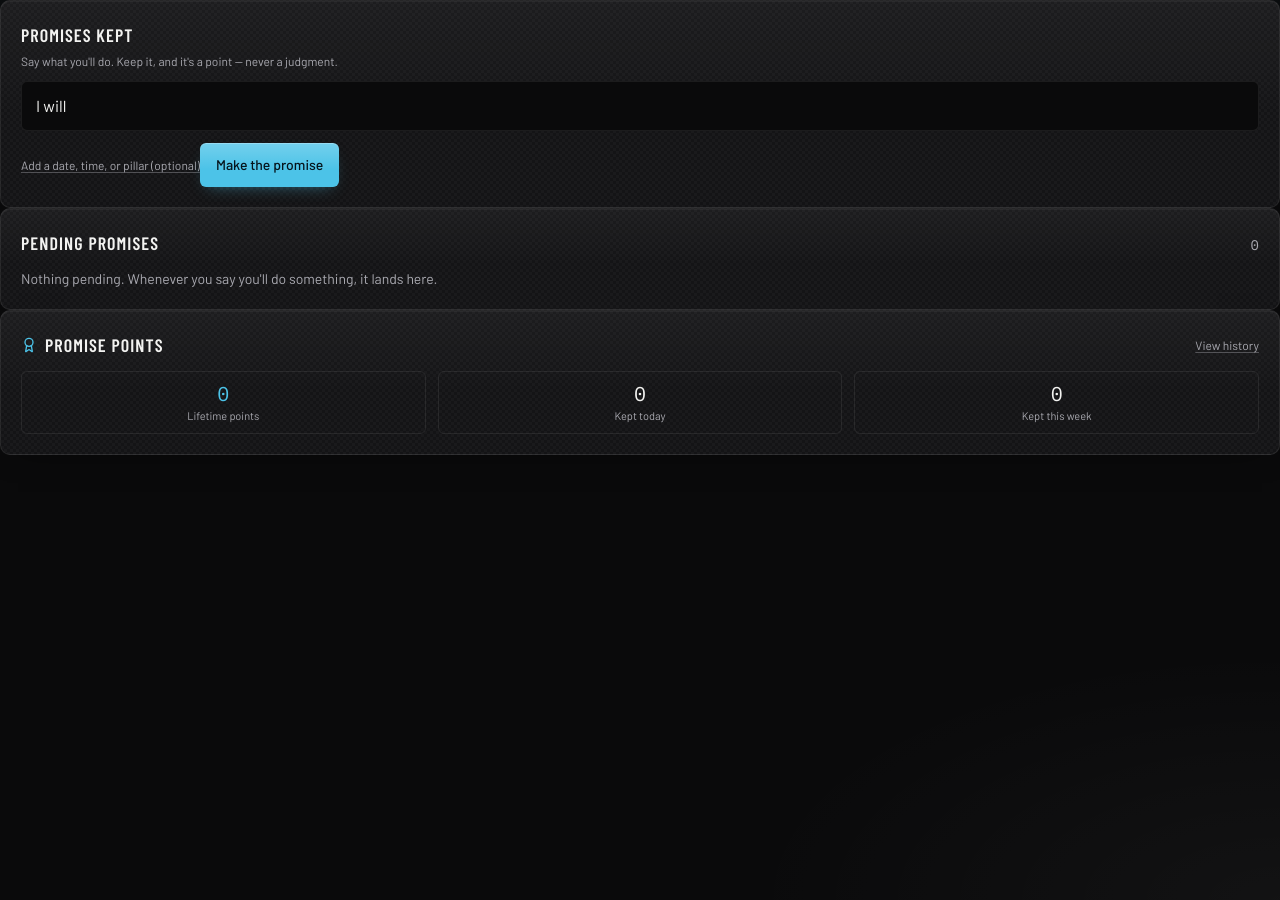
Test: Promises Kept integration › creating, keeping, and undoing a promise drives the point total correctly
Replace the text in the field with placeholder "What will you do?" with "I will read for 20 minutes" at point(640, 106), box [21, 81, 1259, 131]
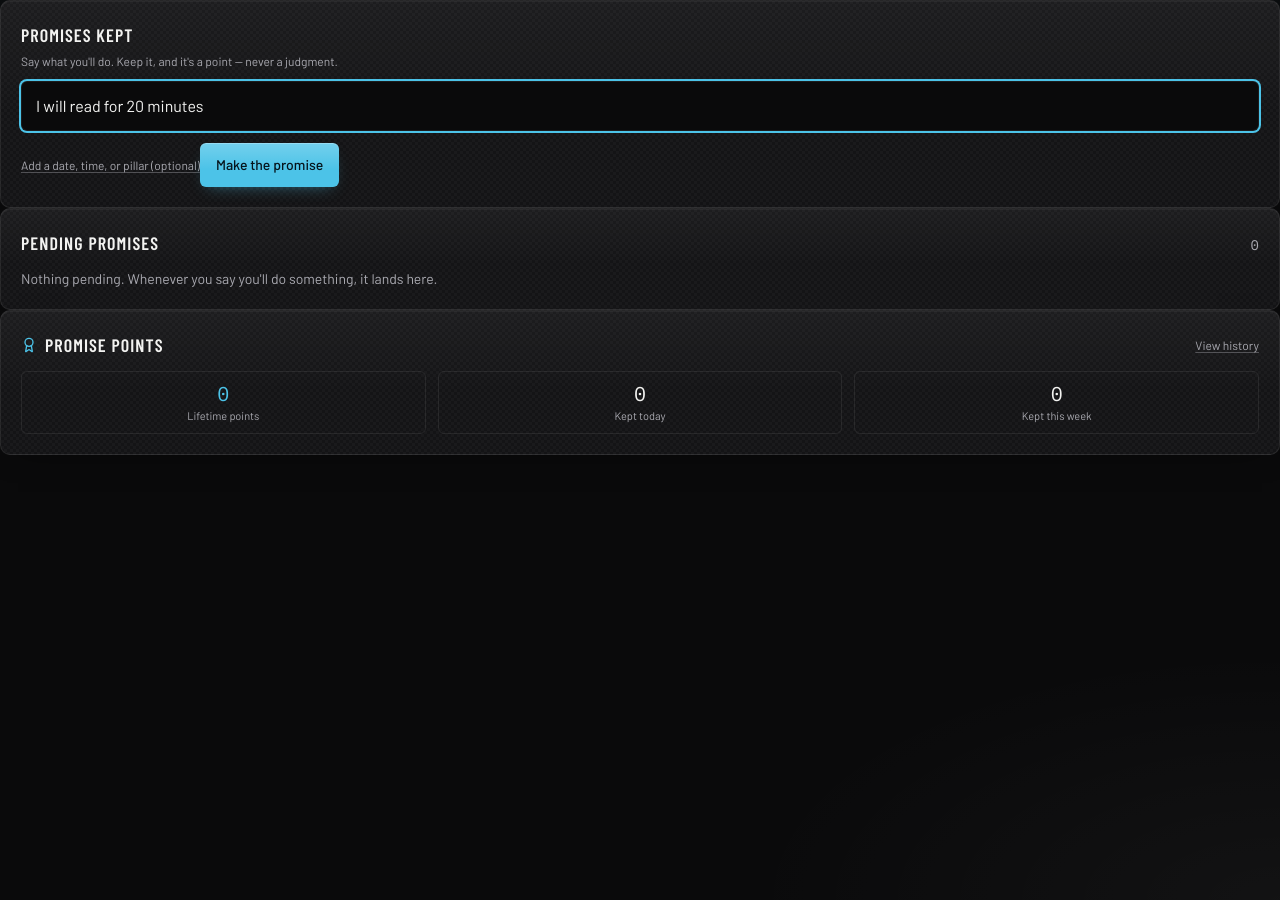
Click the button "Make the promise" at point(270, 165), box [200, 143, 339, 187]
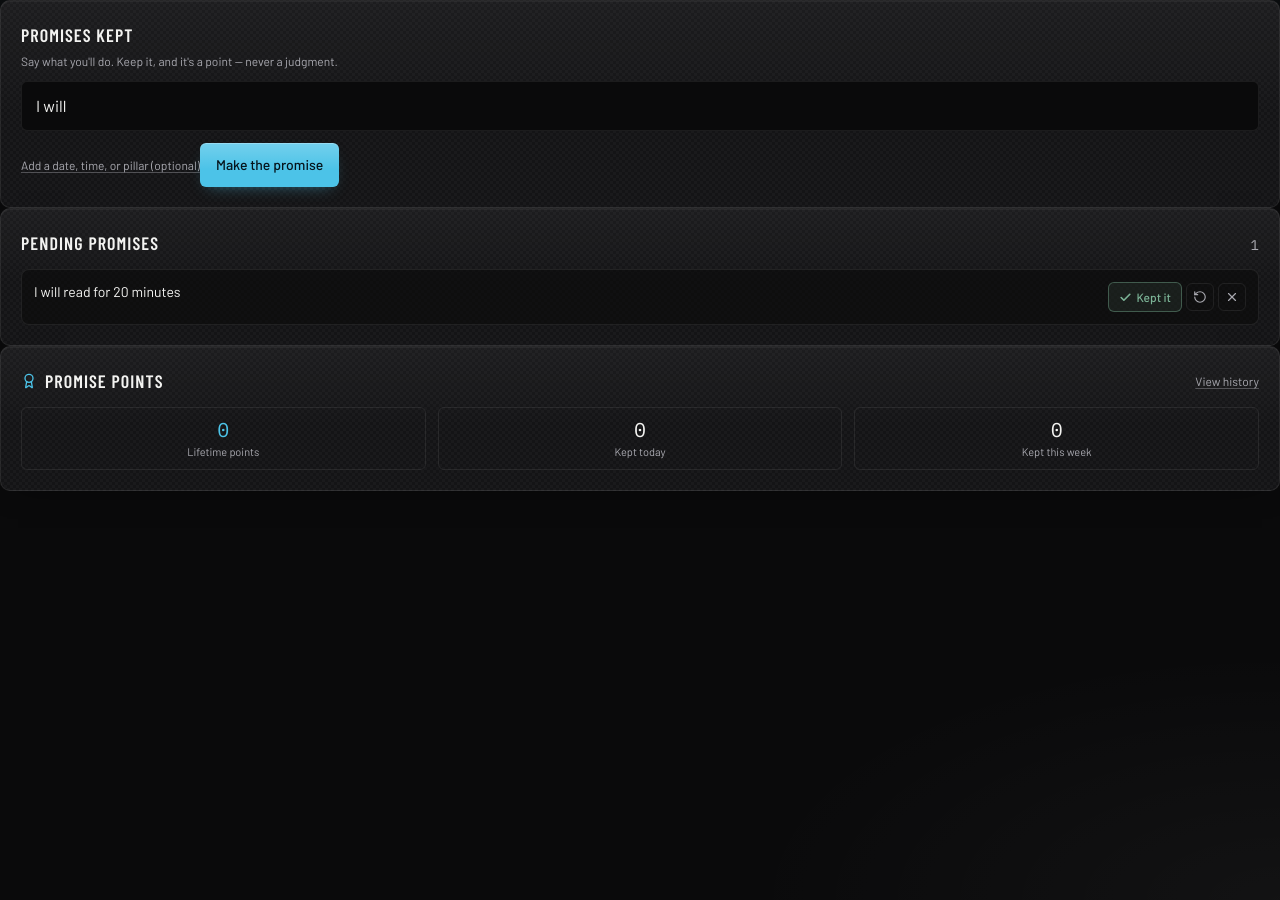
Expected: the 1st text "0" is shown, [217, 416, 229, 443]
Expected: the text "I will read for 20 minutes" is shown, [34, 283, 181, 300]
Click the button "Kept it" at point(1145, 297), box [1108, 282, 1182, 312]
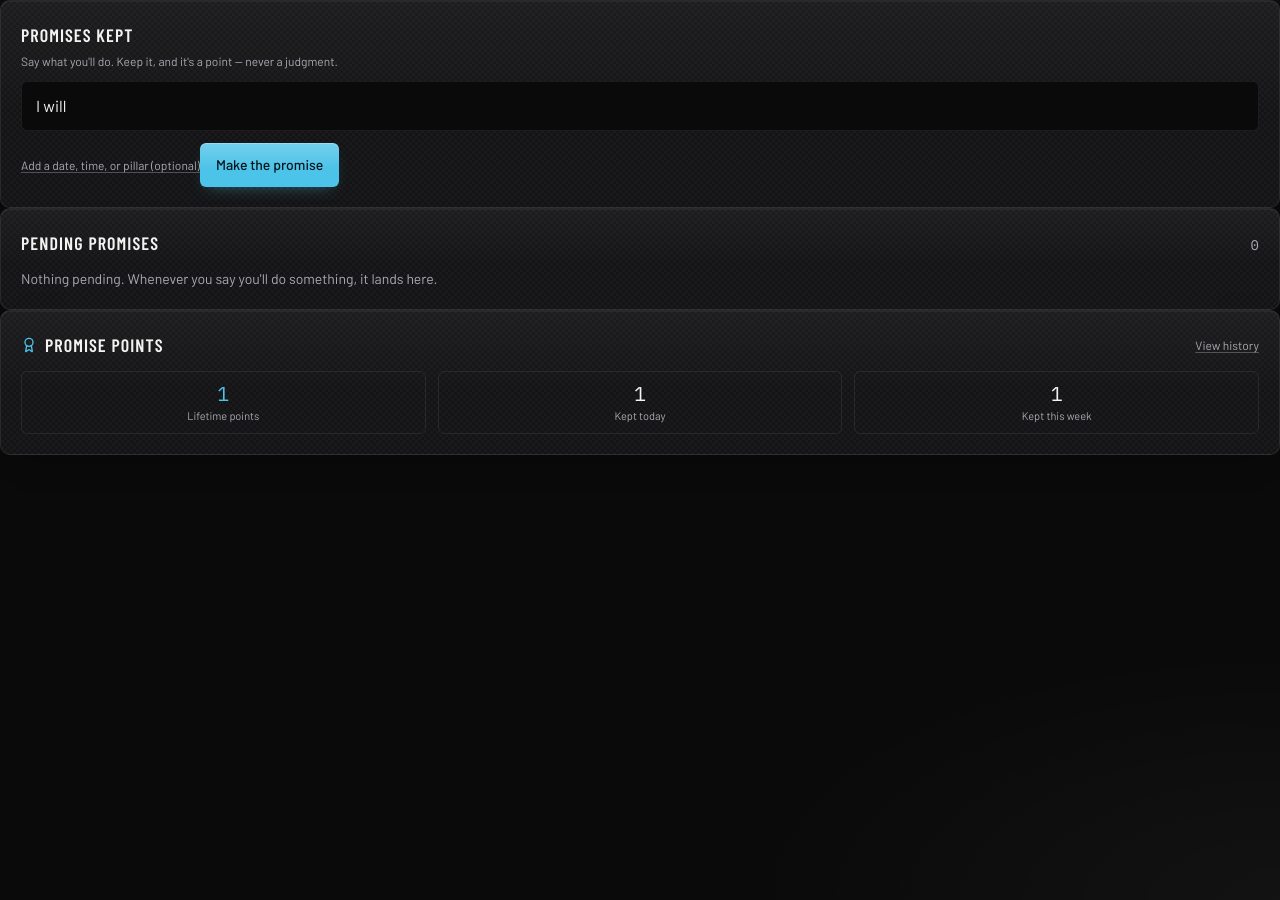
Expected: the 1st text "1" is shown, [217, 380, 229, 407]
Expected: the button "Kept it" is gone
Expected: the text "Nothing pending. Whenever you say you'll do something, it lands here." is shown, [21, 270, 437, 287]
Click the button "View history" at point(1227, 345), box [1195, 337, 1259, 353]
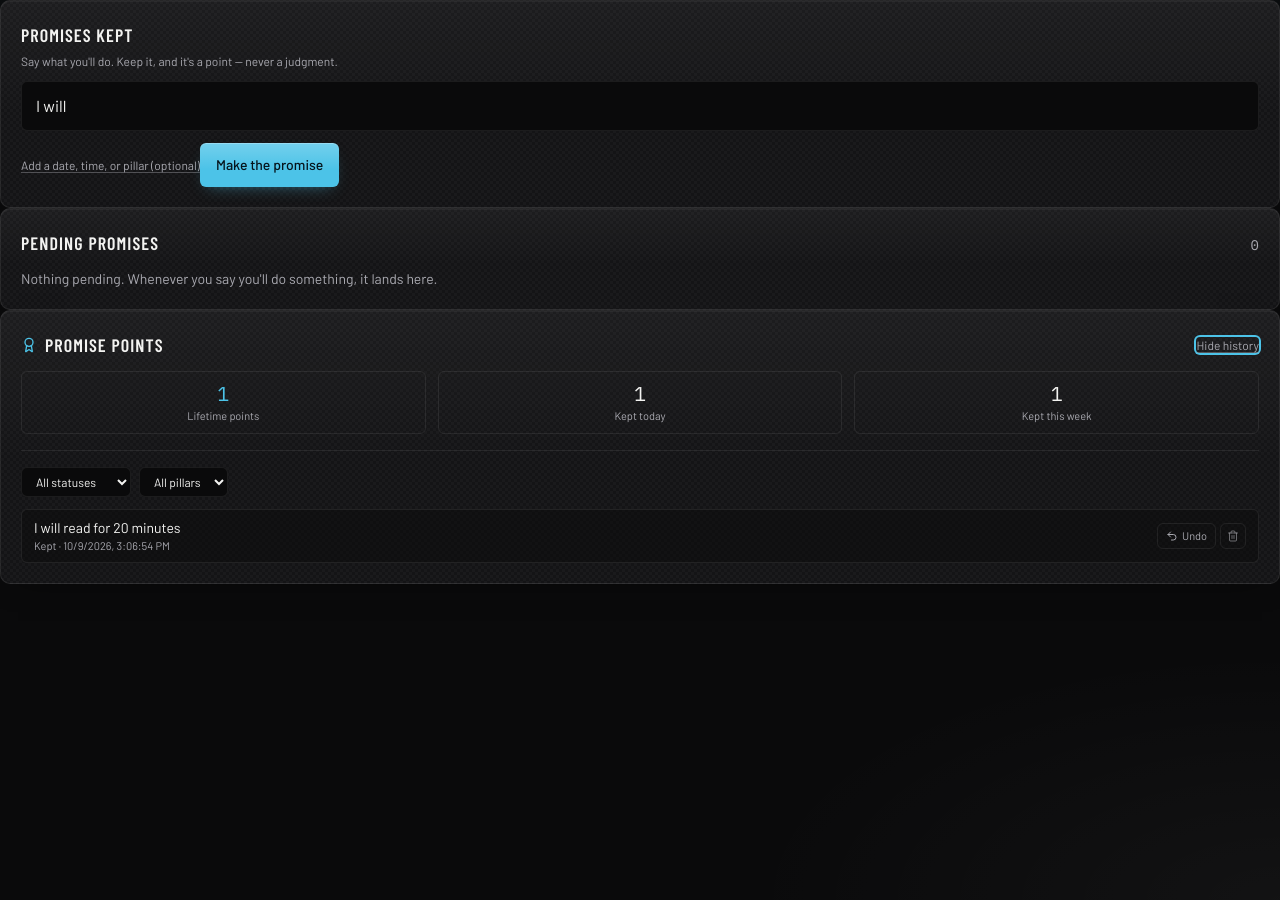
Click the button "Undo" at point(1186, 536), box [1157, 522, 1216, 549]
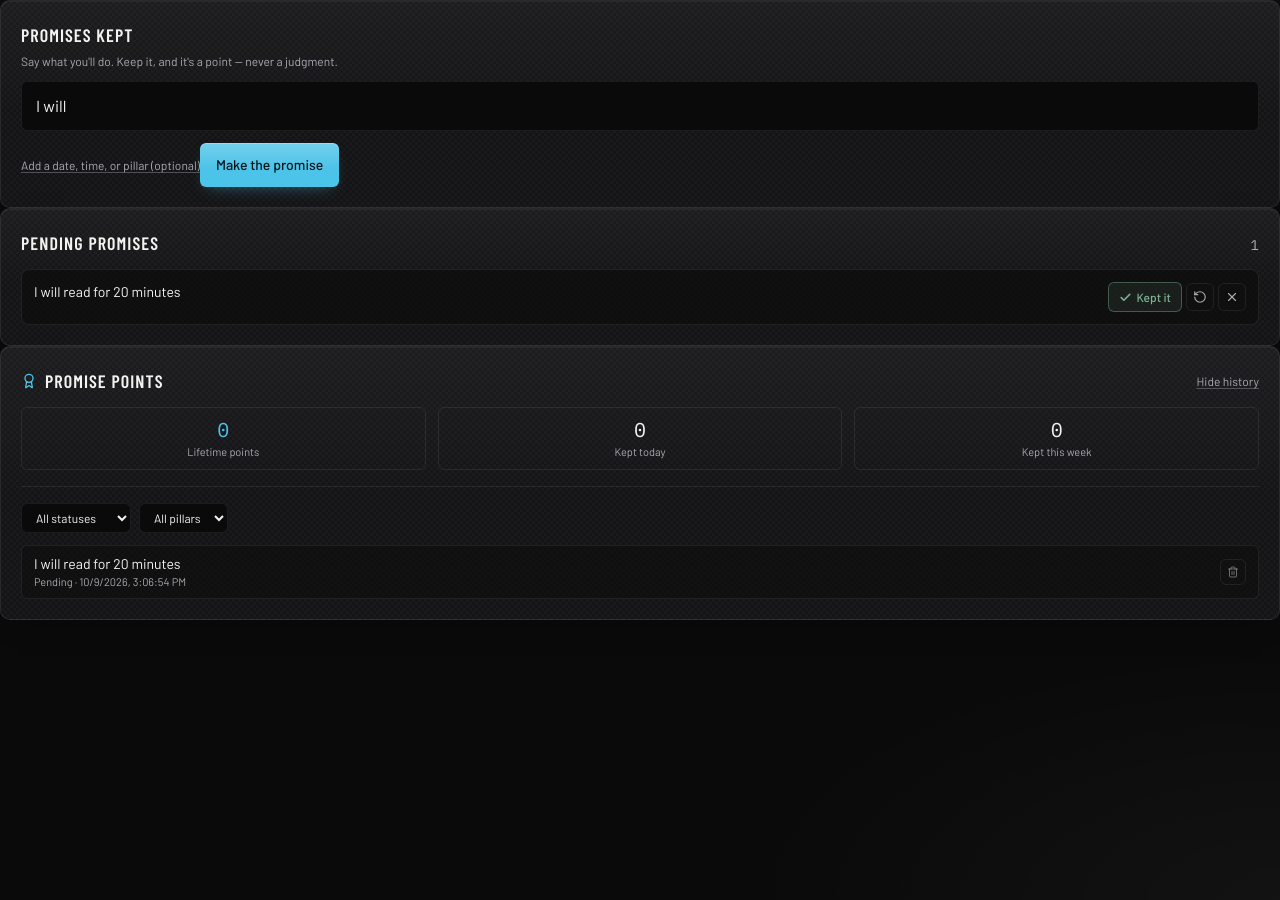
Expected: the 1st text "0" is shown, [217, 416, 229, 443]
Expected: the text "I will read for 20 minutes" below "Pending promises" is shown, [34, 283, 181, 300]
Expected: the button "Kept it" is shown, [1108, 282, 1182, 312]
